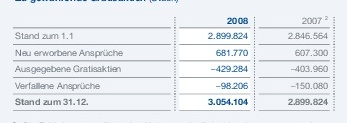table: (0, 0, 347, 123)
